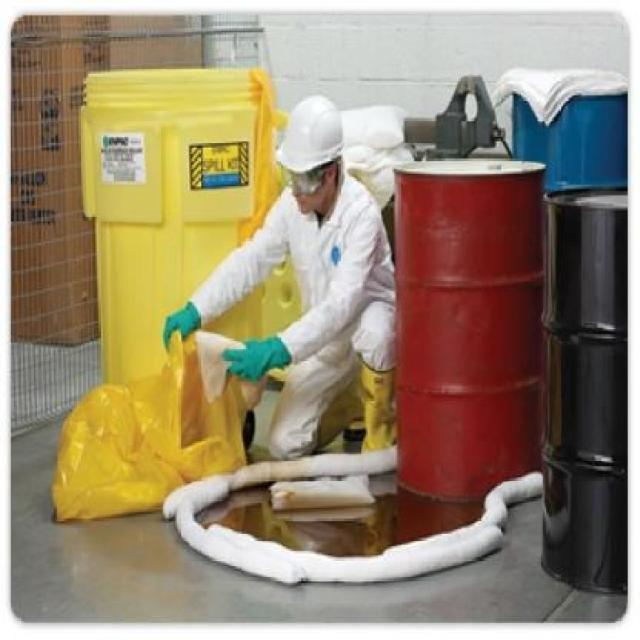spillage: (221, 492, 484, 558)
